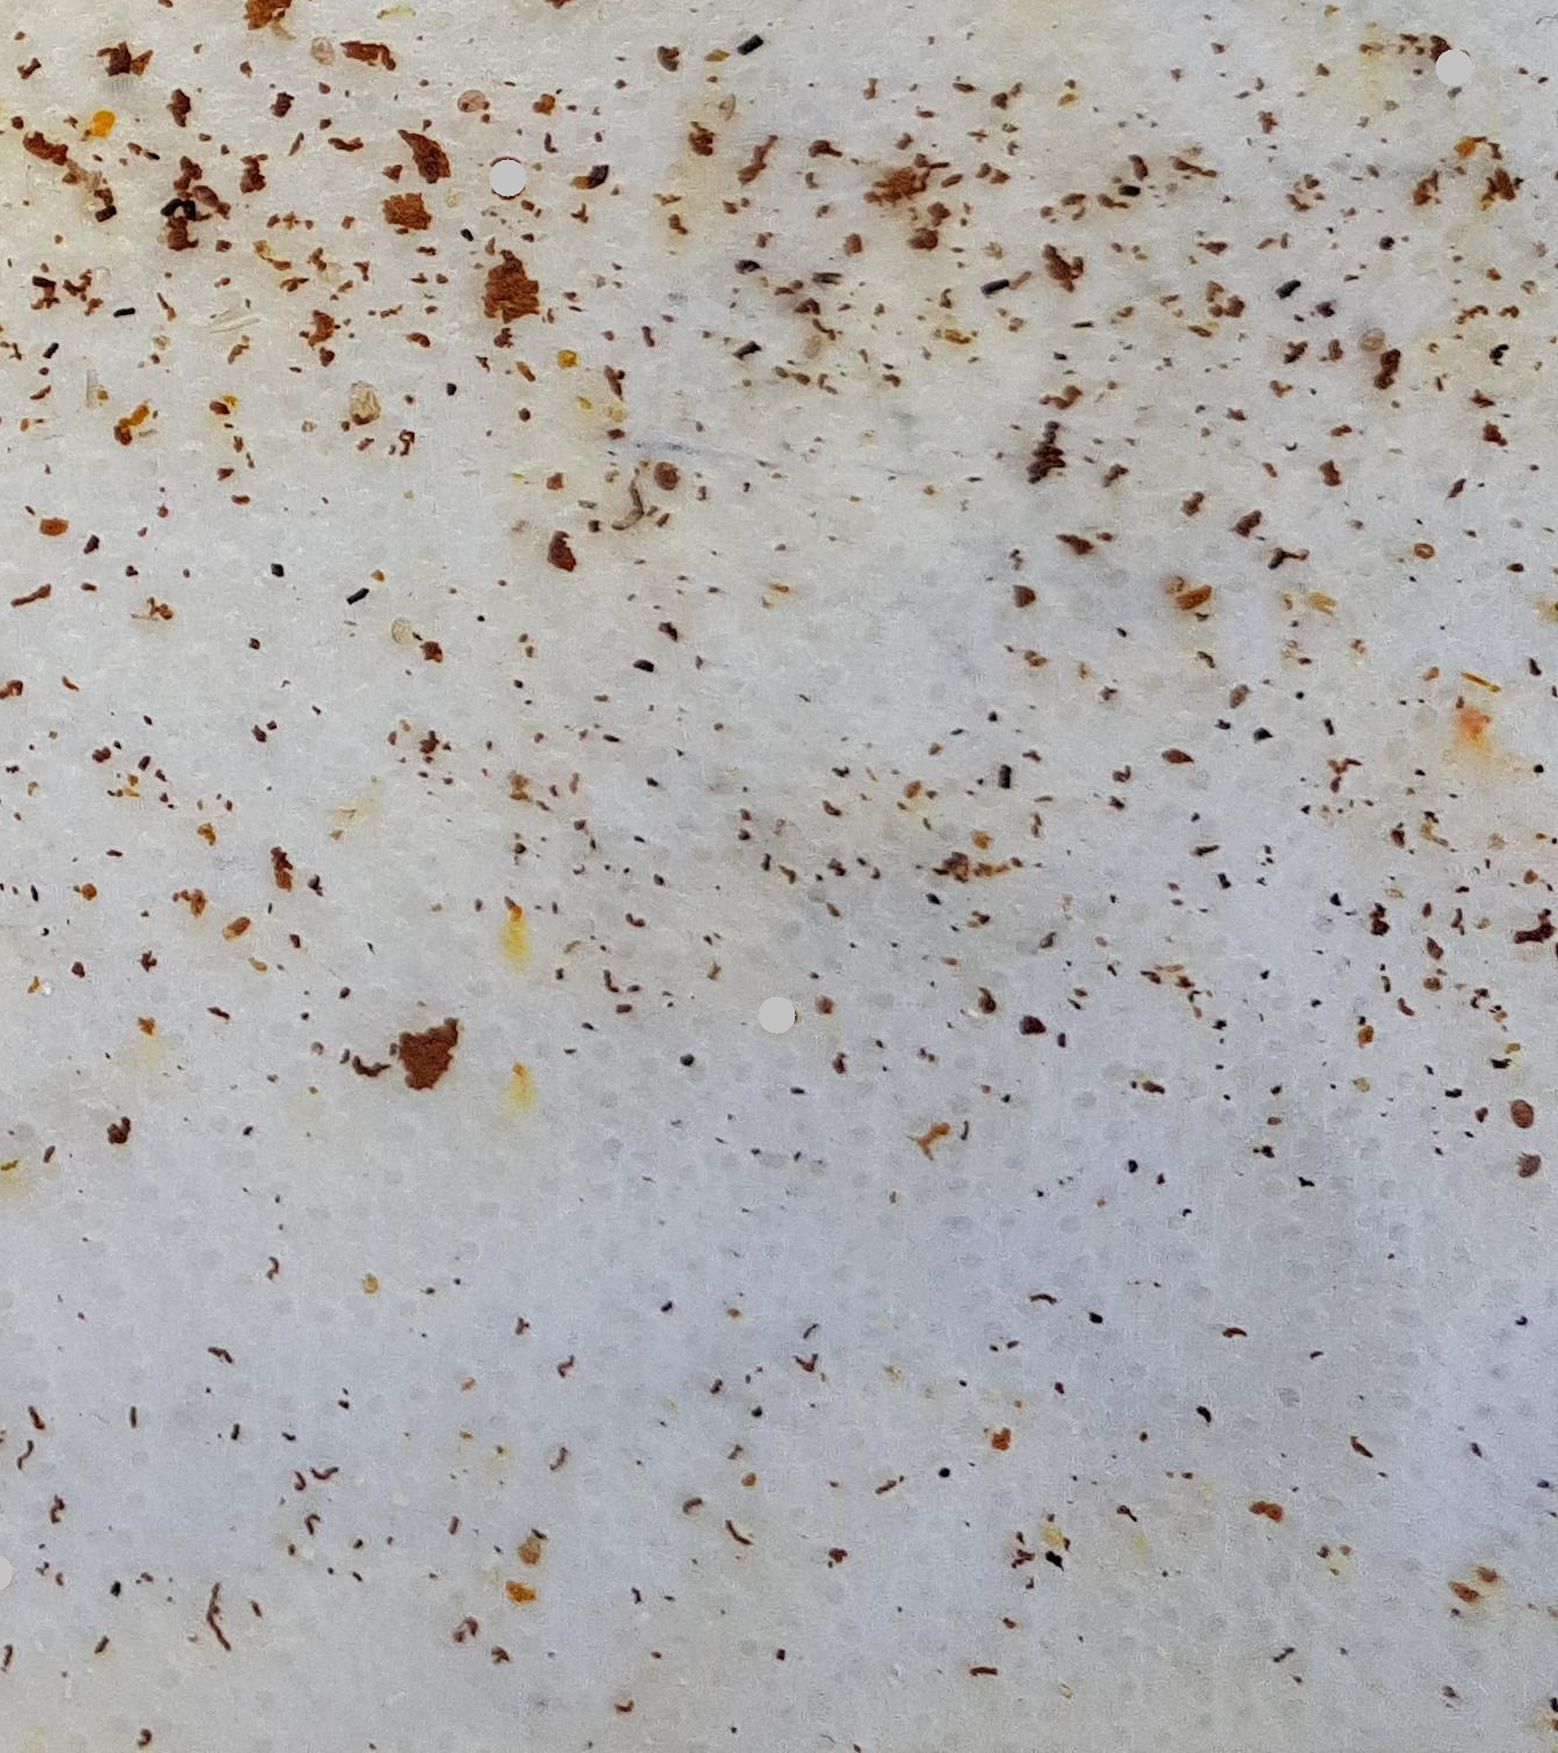Varroa: (1511, 1155, 1547, 1194), (650, 463, 684, 499), (1510, 1091, 1543, 1128)
